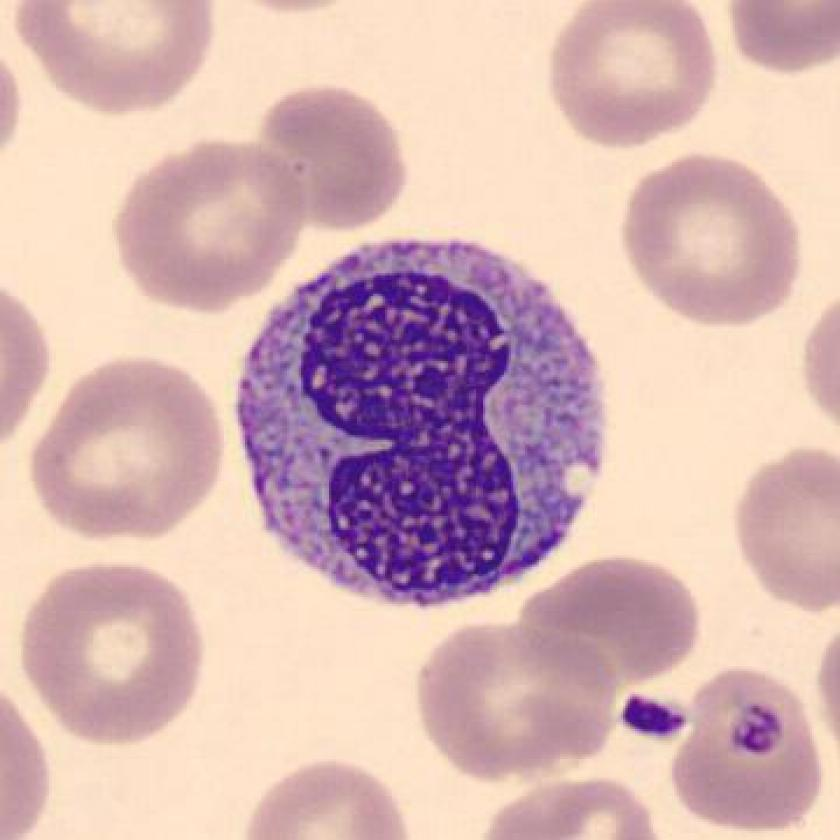monocyte: (206, 223, 631, 619)
